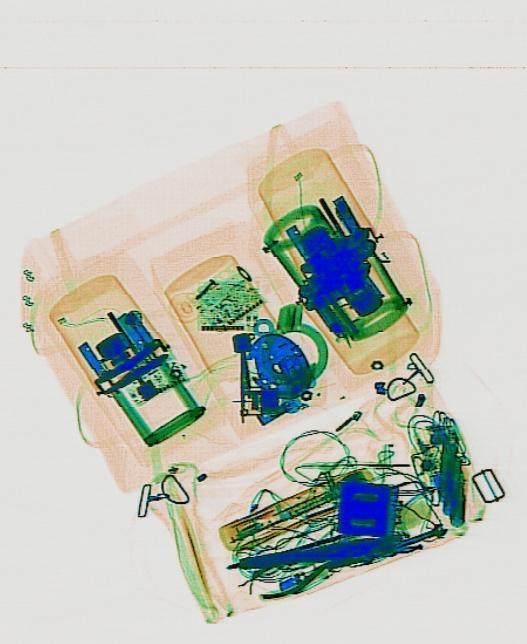Pliers: (246, 525, 383, 604)
